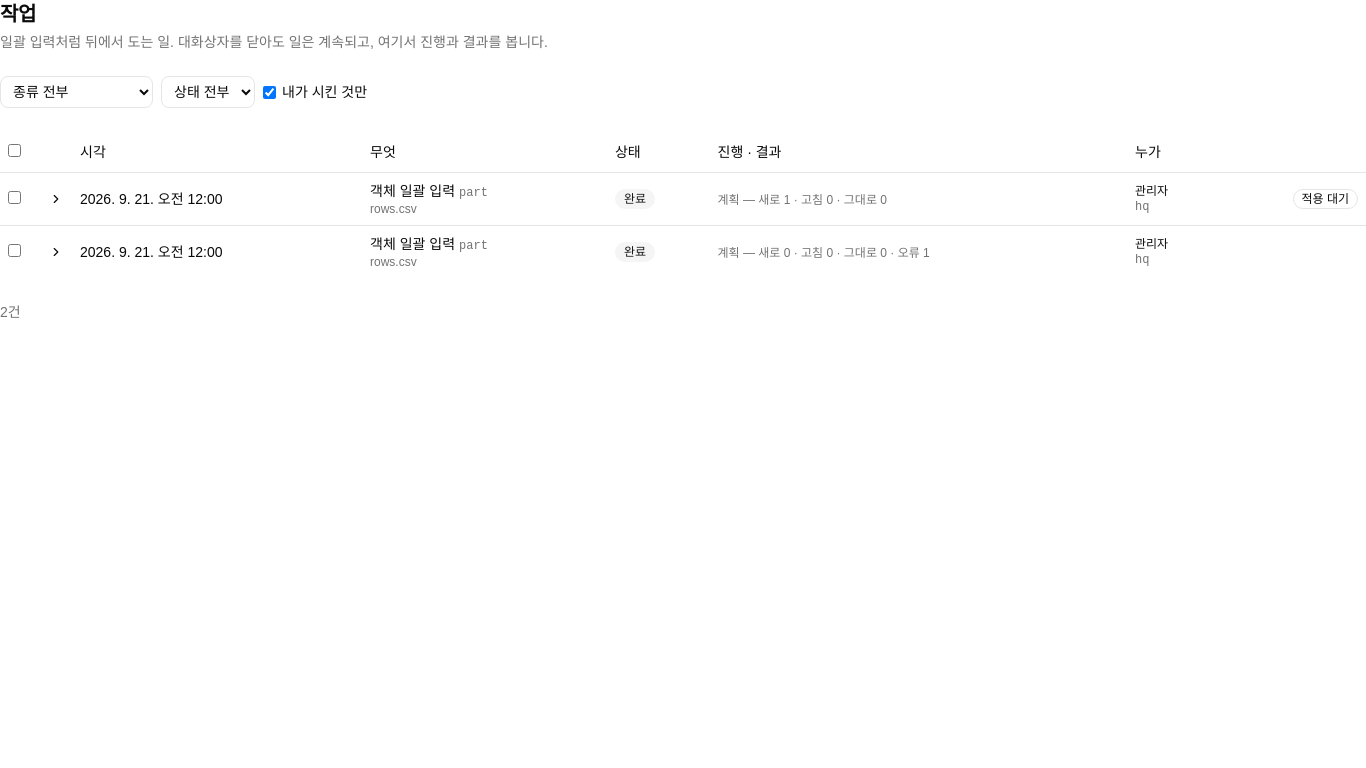
Test: 작업 화면 · 고른 것을 한 번에 › 오류 없는 계획만 적용에 들어간다 — 고른 수와 갈 수를 함께 말한다
Click the checkbox named "이 쪽 전부 선택" at (14, 150), box [8, 144, 21, 157]
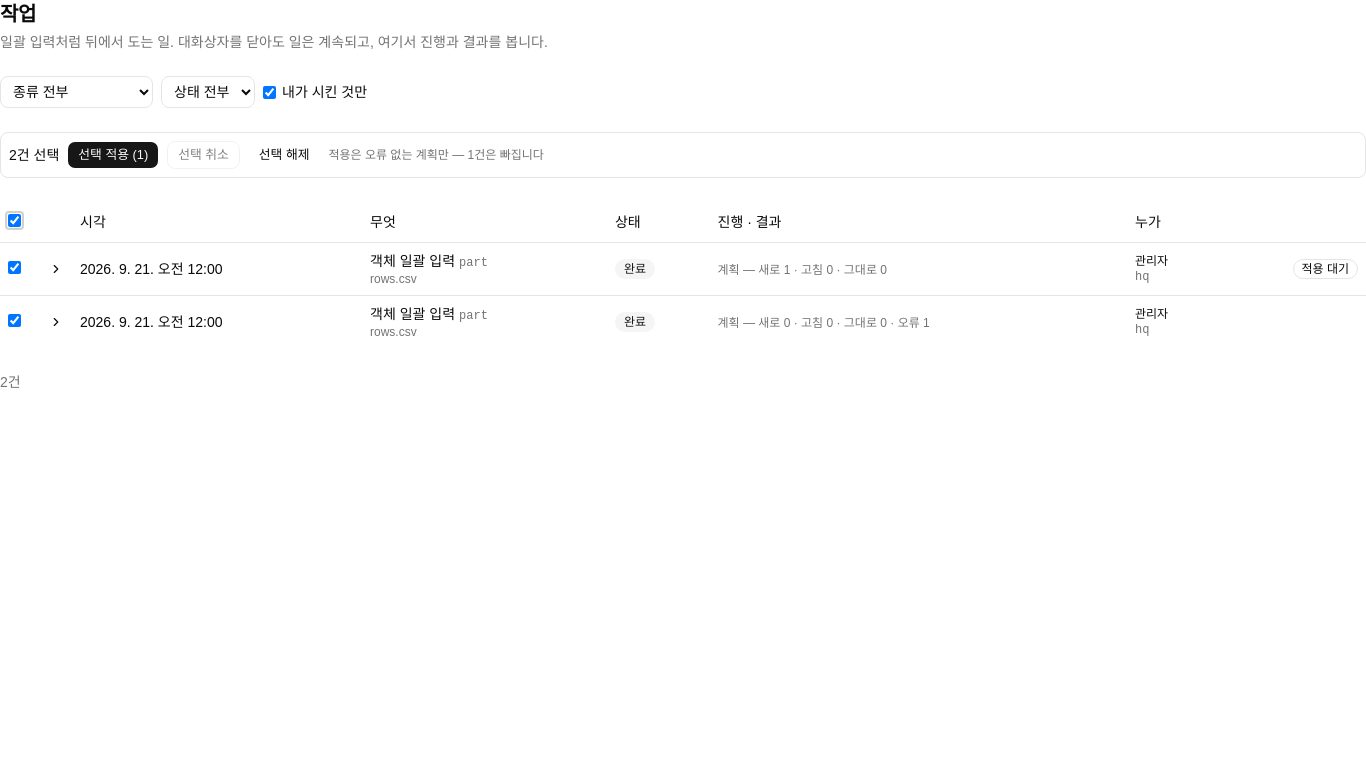
Now the text "2건 선택" is shown, box [9, 145, 59, 165]
Now the text "적용은 오류 없는 계획만 — 1건은 빠집니다" is shown, box [328, 147, 544, 163]
Click the button "선택 적용 (1)" at (113, 155), box [67, 141, 159, 169]
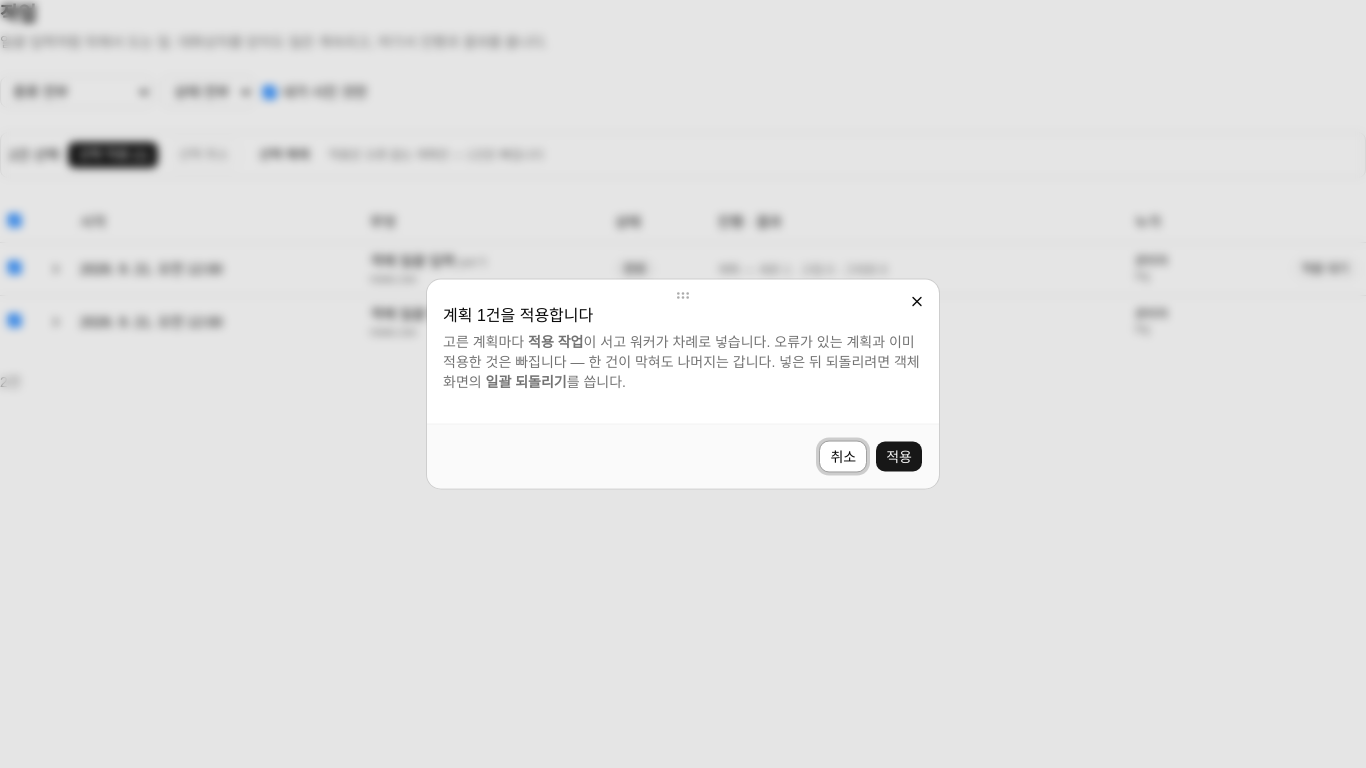
Click the button "적용" at (899, 456), box [875, 440, 923, 472]
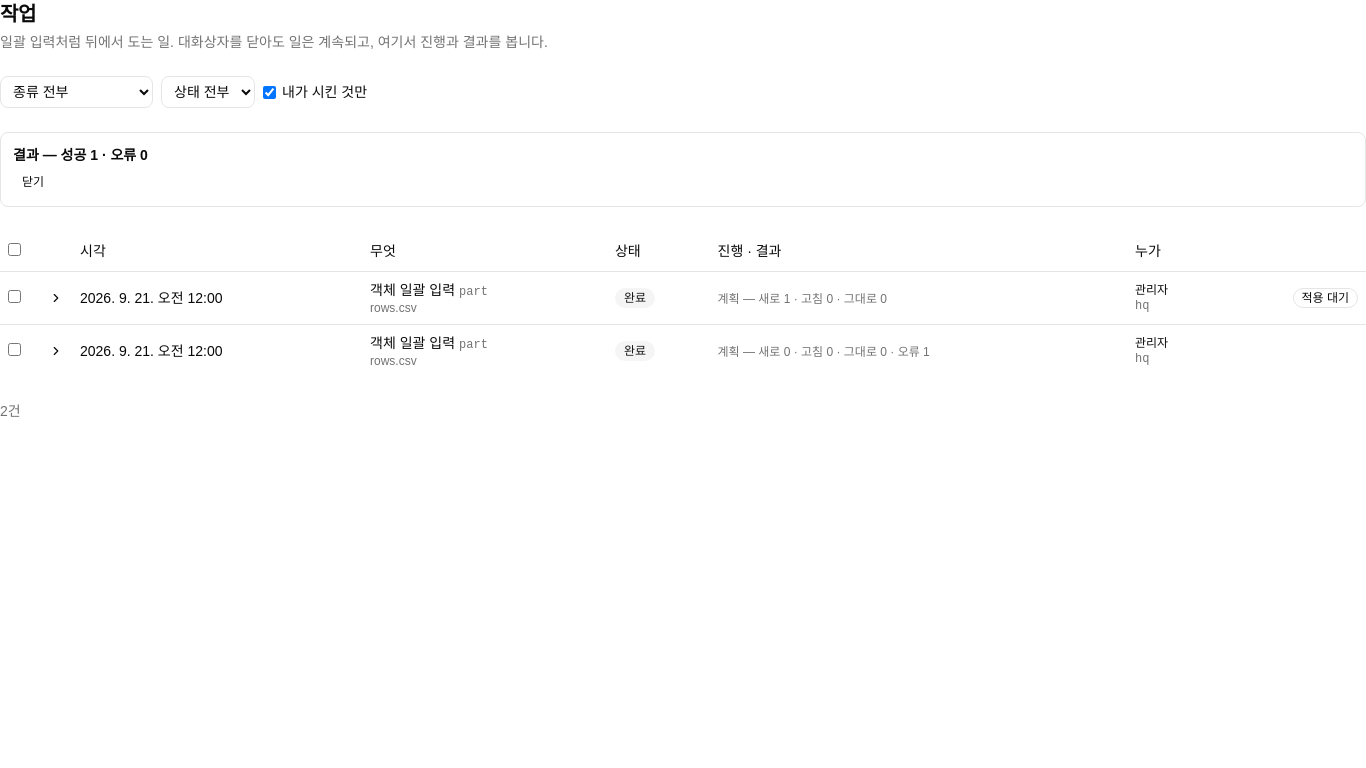
Now the text "결과 — 성공 1 · 오류 0" is shown, box [13, 147, 148, 163]
